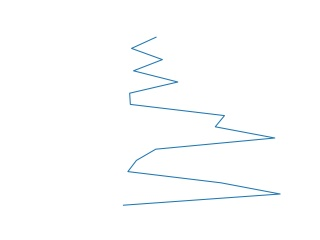majorRiverBedLagDeposit: (118, 36, 280, 209)
